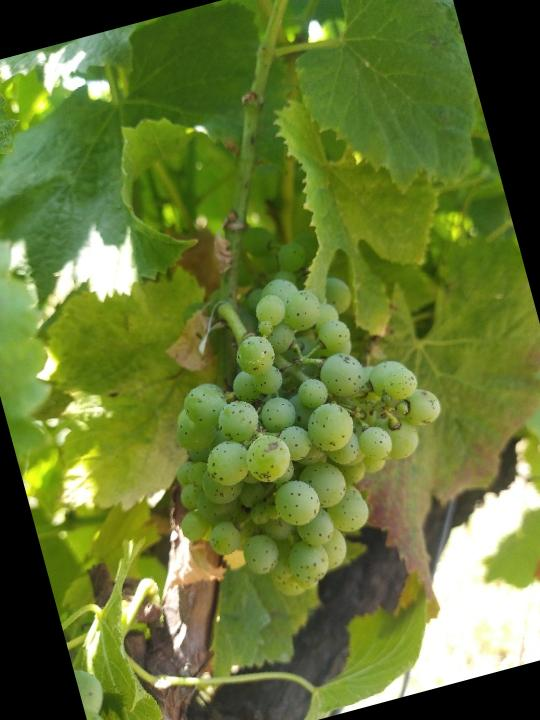grape: (124, 245, 481, 624)
